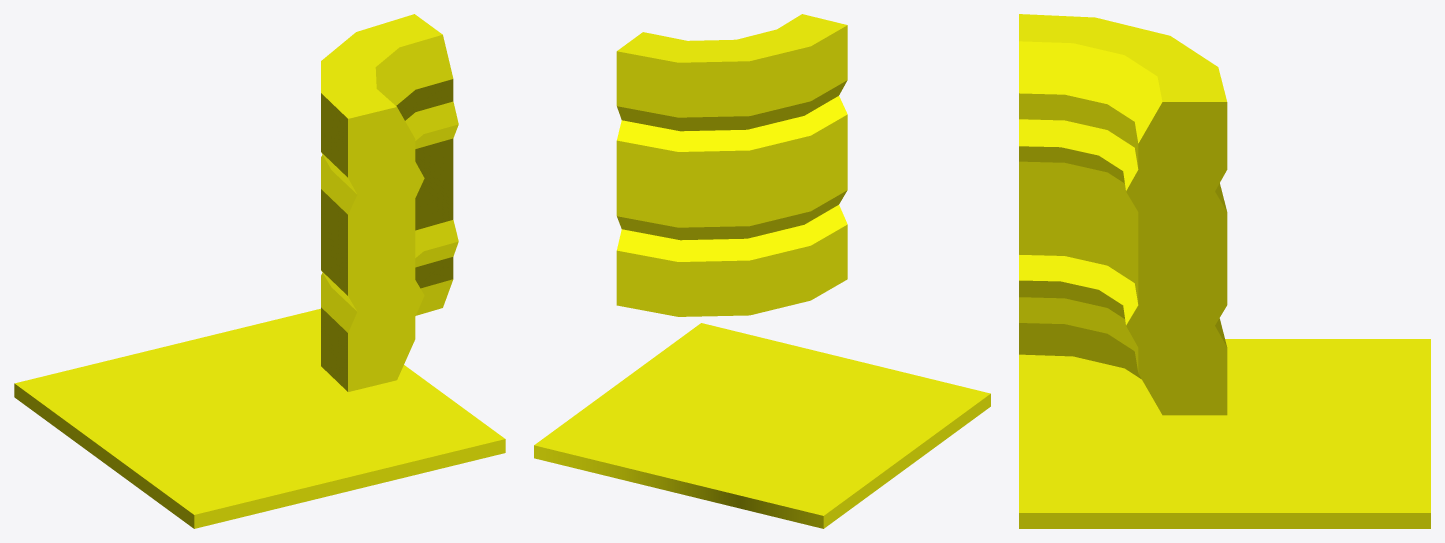
File: parking_border001.glb
3 renders of one model, left to right at view 1: azimuth 30°, elevation 25°; view 2: azimuth 150°, elevation 25°; view 3: azimuth 270°, elevation 25°, orthographic. The views are drawn at different scales.
Parts seen in each view (by area): view 1: parking_border001; view 2: parking_border001; view 3: parking_border001.
Part boxes in pixels (left/top/right/bottom): parking_border001: left=14, top=14, right=505, bottom=528; parking_border001: left=534, top=14, right=990, bottom=528; parking_border001: left=1019, top=14, right=1430, bottom=528.
Bounding box in the file's own units: 0.9 × 1.03 × 0.9.
1 material, 1 textured.
